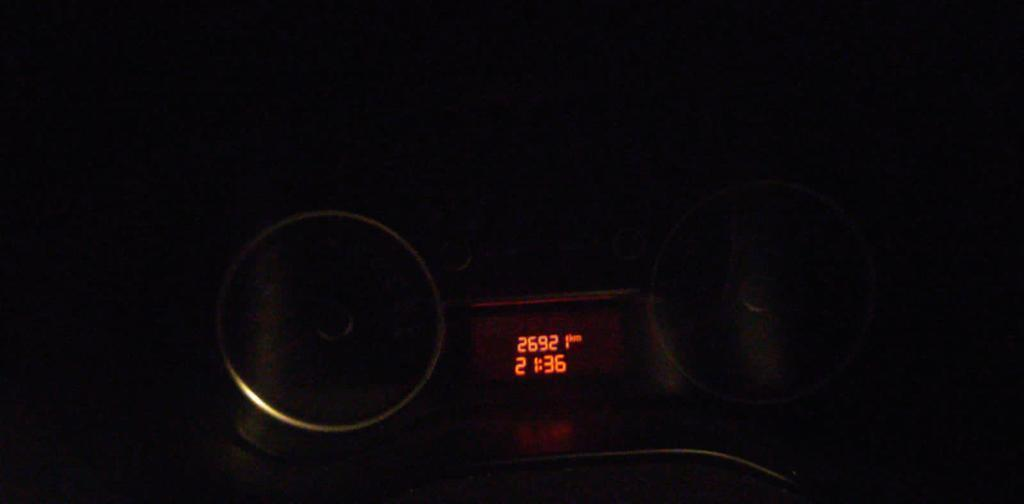1: (531, 355, 538, 375), (563, 333, 569, 351)
2: (513, 355, 527, 375), (515, 334, 527, 353), (548, 333, 560, 351)
3: (542, 353, 553, 374)
6: (554, 353, 567, 373), (527, 334, 538, 353)
9: (538, 333, 548, 352)
X: (537, 357, 542, 371), (573, 334, 581, 342), (569, 332, 573, 342)
odometer: (461, 291, 638, 389)
